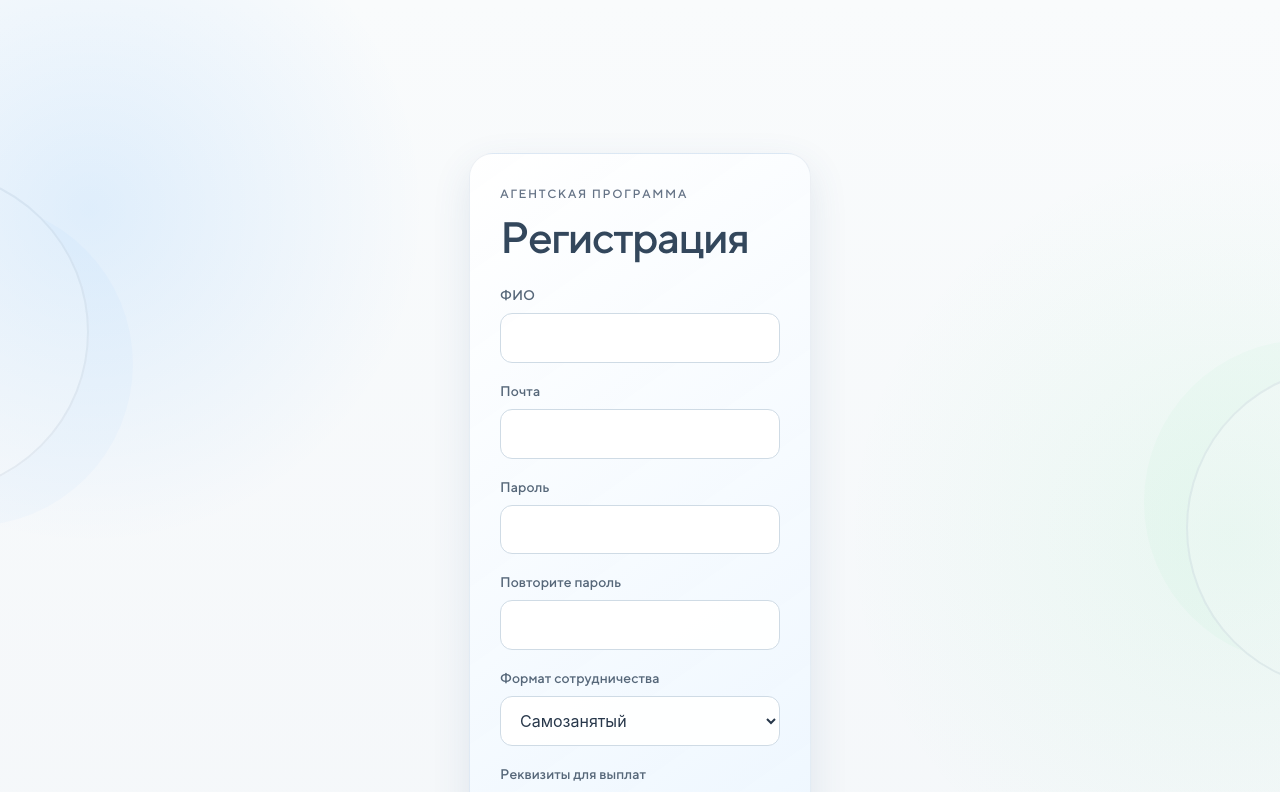
Test: registration › sends the form and moves to the code step with the notice
In the field labelled "ФИО": (640, 338) [500, 313, 780, 363], type "Новый Партнёр"
In the field labelled "Почта": (640, 434) [500, 409, 780, 458], type "new@example.com"
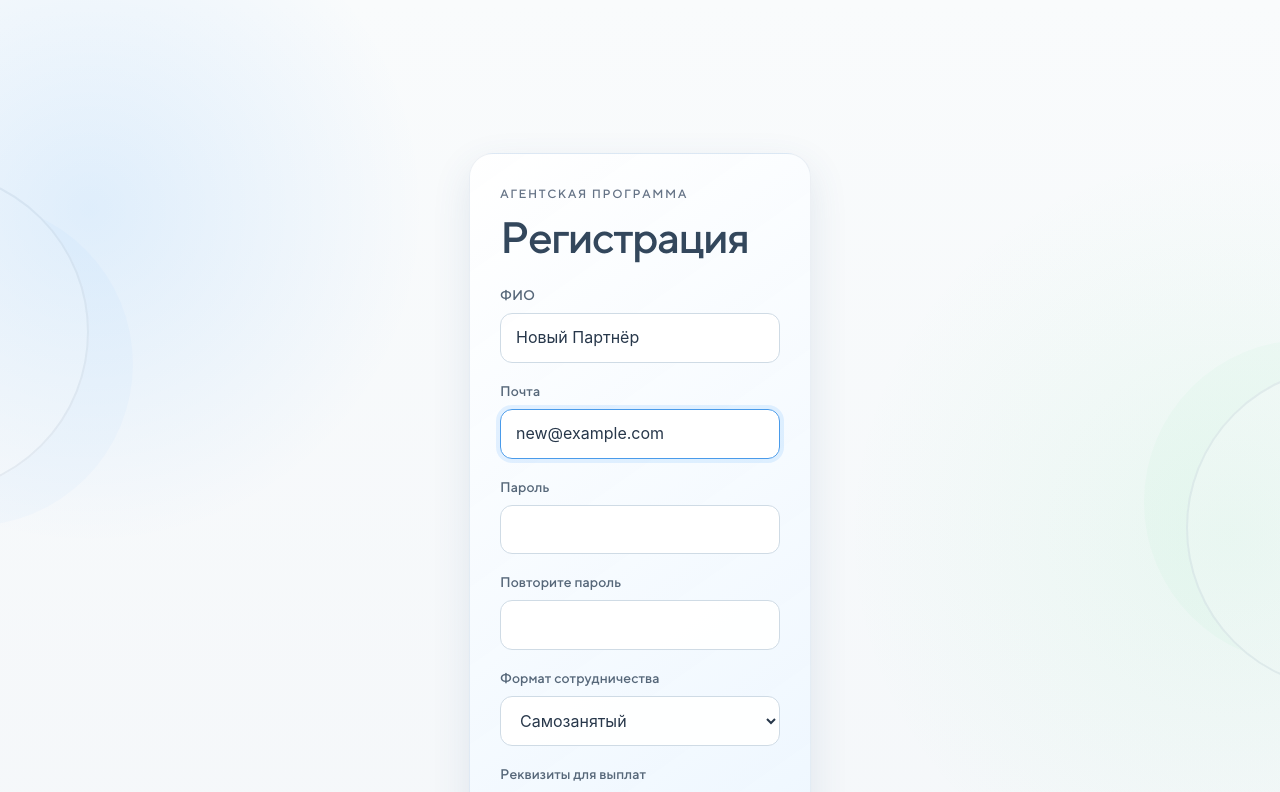
In the password field labelled "Пароль": (640, 529) [500, 504, 780, 554], type "secret1"
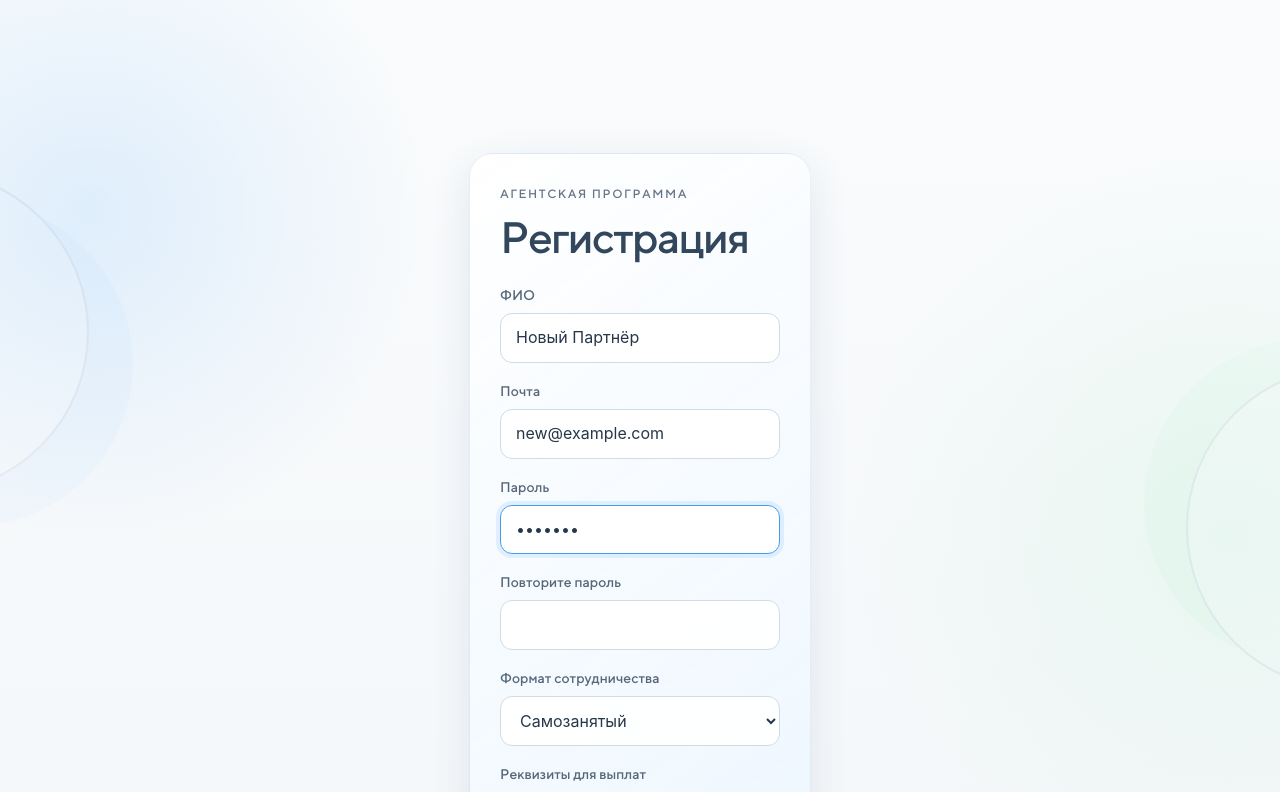
In the password field labelled "Повторите пароль": (640, 625) [500, 600, 780, 650], type "secret1"
(page scrolled)
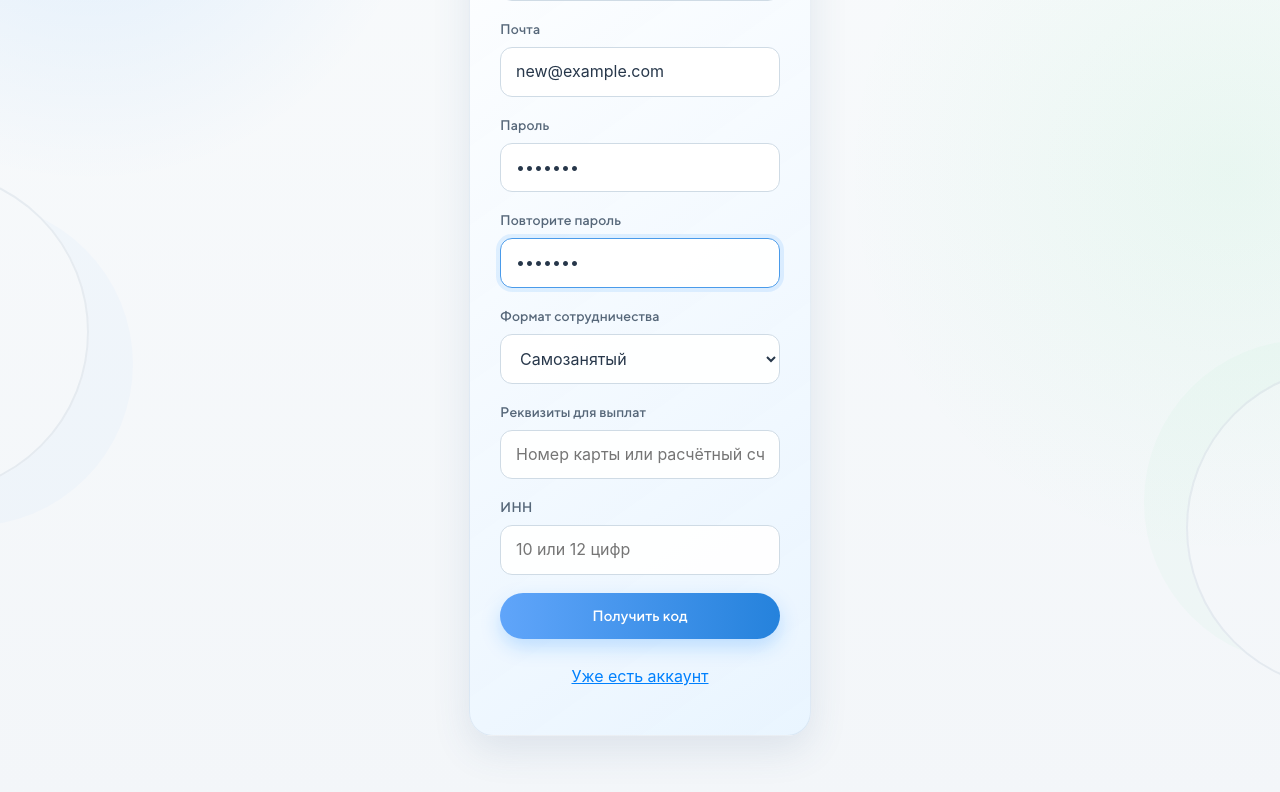
In the field labelled "Реквизиты для выплат": (640, 454) [500, 430, 780, 479], type "Карта 2200"
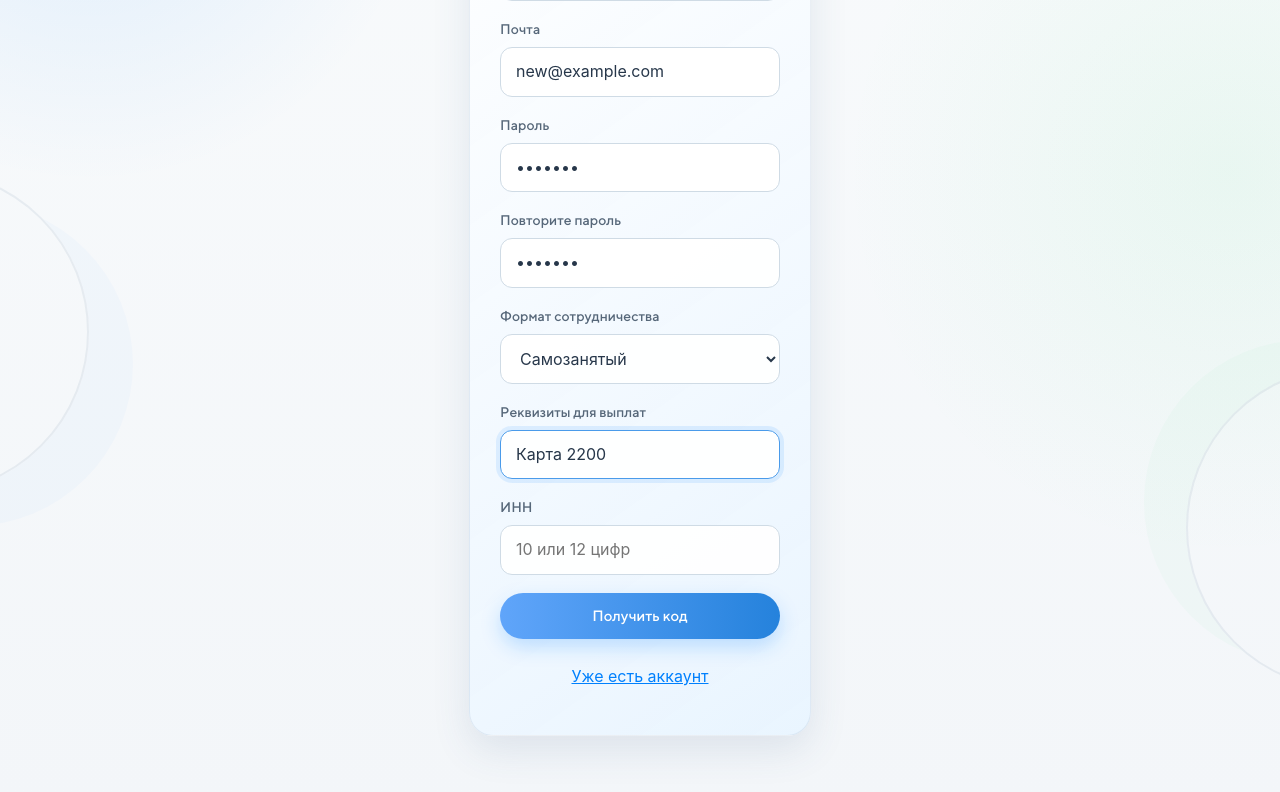
In the field labelled "ИНН": (640, 550) [500, 525, 780, 575], type "123456789012"
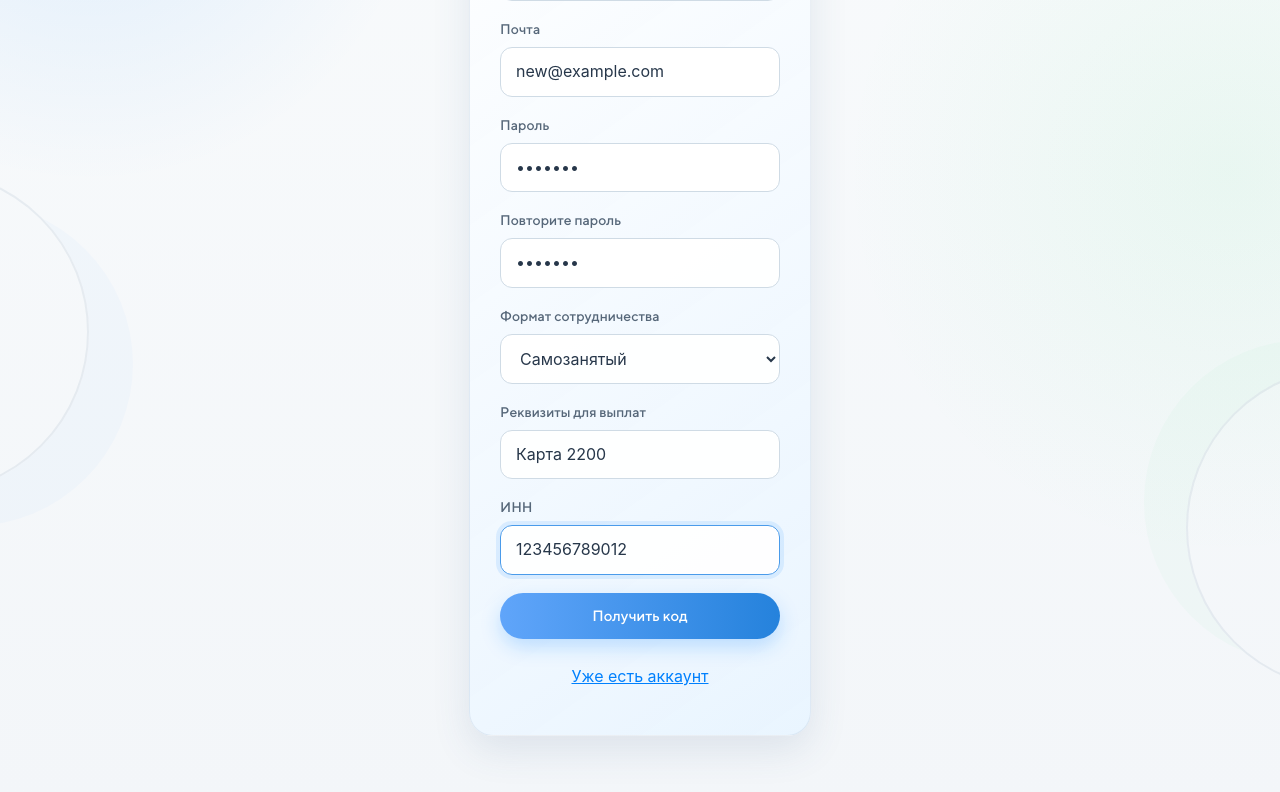
Click the button "Получить код": (640, 616) [500, 593, 780, 639]
(page scrolled)
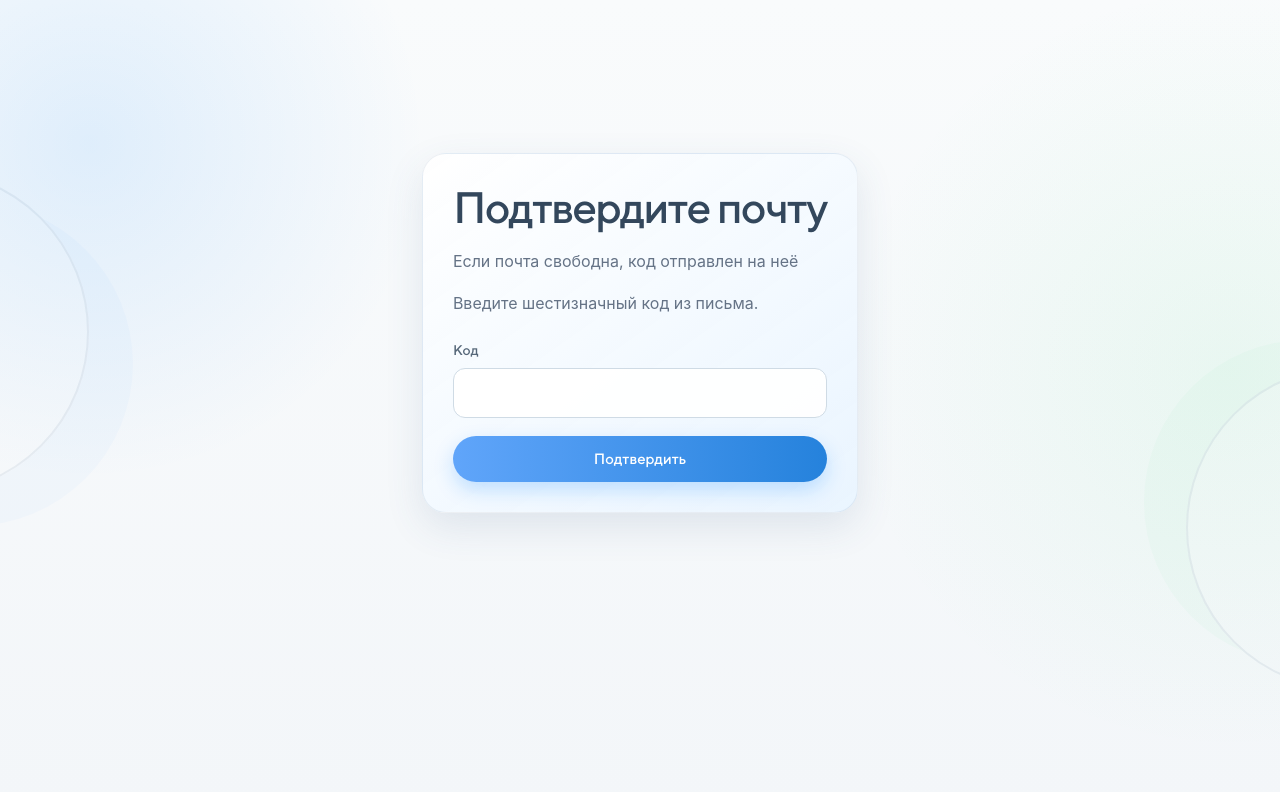
Expected: the heading "Подтвердите почту" is shown, [453, 184, 827, 232]
Expected: the text "Если почта свободна, код отправлен на неё" is shown, [453, 248, 827, 274]
